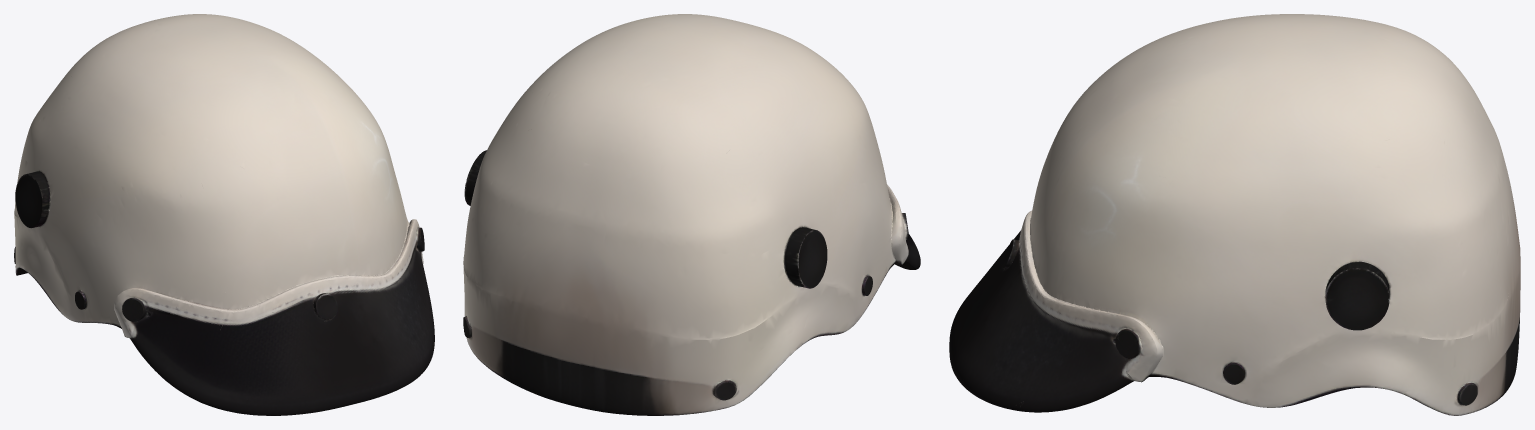
Rendered from base_basic_pbr.fbx.
3 views of the same model, side by side, from view 1: azimuth 30°, elevation 25°; view 2: azimuth 150°, elevation 25°; view 3: azimuth 270°, elevation 25° (orthographic). The views are drawn at different scales.
Visible parts, largest first — view 1: model; view 2: model; view 3: model.
Boxes of the visible parts, box(x1,y1,x2,y2) form: model: box(14, 14, 434, 415); model: box(463, 14, 920, 415); model: box(949, 14, 1520, 415).
Size of the model in its own units: 145 by 118 by 190.
Materials: 1 (1 with a texture image).
